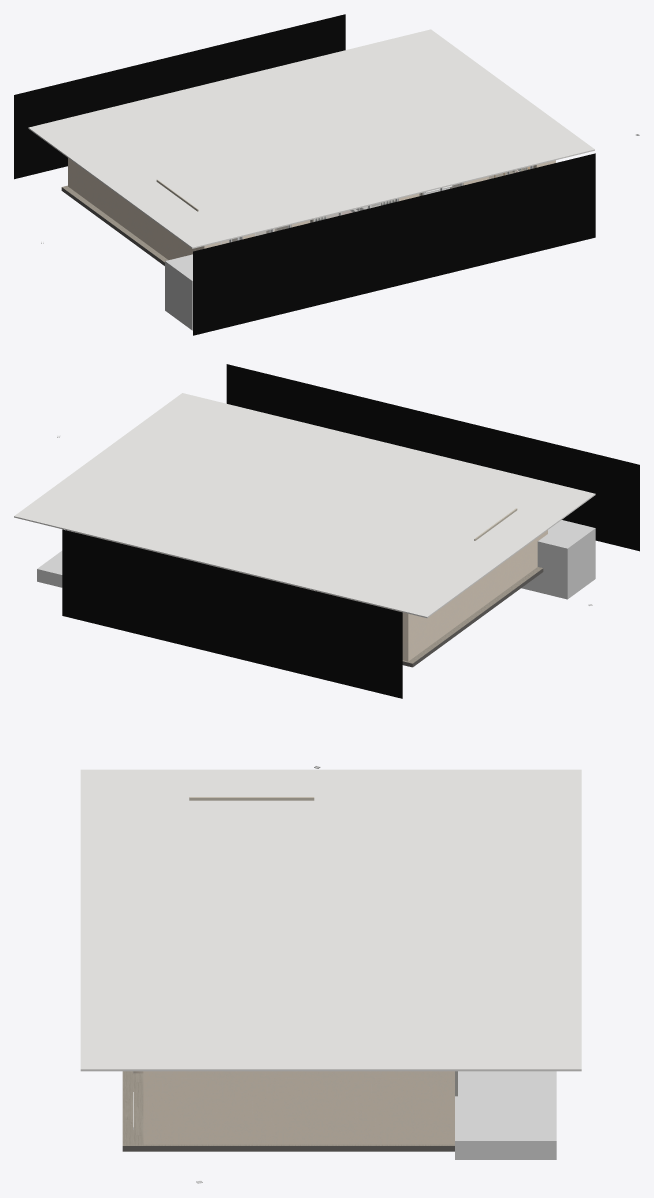
The model's file is house.glb.
3 views of the same model, one above another, from view 1: azimuth 30°, elevation 25°; view 2: azimuth 150°, elevation 25°; view 3: azimuth 270°, elevation 25° (orthographic). The views are drawn at different scales.
Parts seen in each view (by area): view 1: Ceiling_Slab, Q2_Landscape_South, Q2_Landscape_North, ExactWall_13, Cube, Exact_Floor; view 2: Ceiling_Slab, Q2_Landscape_North, Q2_Landscape_South, ExactWall_13, Cube, Exact_Floor, Void_Elevator_Hall_Cutter; view 3: Ceiling_Slab, ExactWall_5, Void_Elevator_Hall_Cutter, Exact_Floor.
Boxes of the visible parts, x1,y1,x2,y2 form: Ceiling_Slab: (28,29,594,248); Q2_Landscape_South: (193,153,595,335); Q2_Landscape_North: (14,14,345,179); ExactWall_13: (68,158,237,259); Cube: (165,254,192,330); Exact_Floor: (61,171,513,265); Ceiling_Slab: (14,393,595,617); Q2_Landscape_North: (62,529,402,698); Q2_Landscape_South: (226,364,639,551); ExactWall_13: (402,530,547,661); Cube: (521,520,595,599); Exact_Floor: (402,567,543,667); Void_Elevator_Hall_Cutter: (37,551,62,587); Ceiling_Slab: (80,769,581,1071); ExactWall_5: (143,1071,454,1144); Void_Elevator_Hall_Cutter: (455,1071,556,1159); Exact_Floor: (122,1071,454,1151).
Size of what is drawn, in the model's own units: 23.65 by 4.05 by 15.
Materials: 105 (15 with a texture image).
